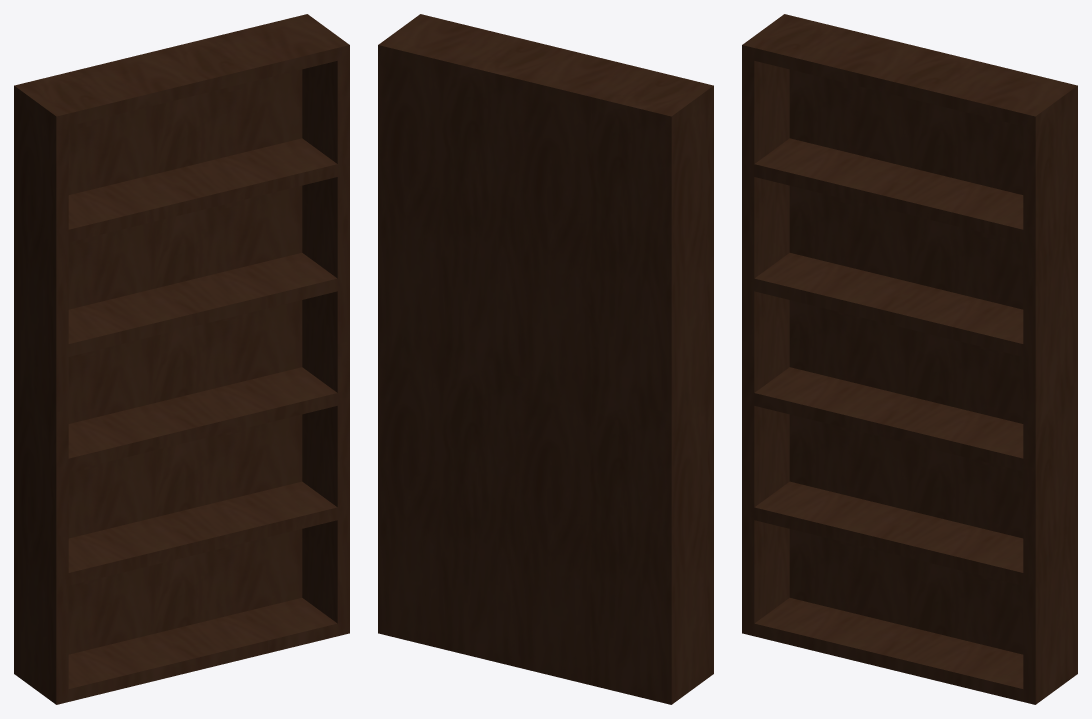
The model's file is Book Shelf.FBX.
The picture shows the model from 3 angles, left to right: view 1: azimuth 30°, elevation 25°; view 2: azimuth 150°, elevation 25°; view 3: azimuth 330°, elevation 25°; orthographic projection.
Visible parts, largest first — view 1: Box001; view 2: Box001; view 3: Box001.
Boxes of the visible parts, left/top/right/bottom form: Box001: left=14, top=14, right=349, bottom=704; Box001: left=378, top=14, right=713, bottom=704; Box001: left=742, top=14, right=1077, bottom=704.
Bounding box in the file's own units: 120 × 230 × 30.
1 material, 1 textured.
